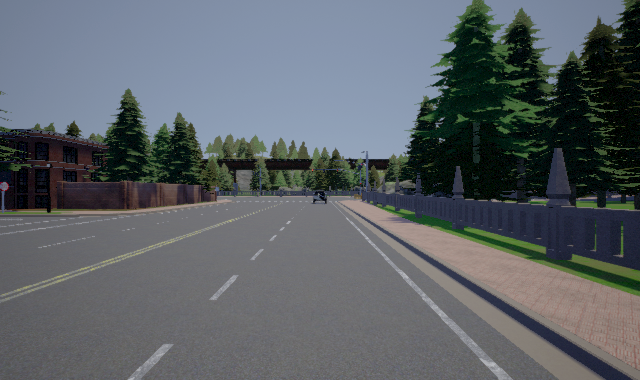traffic_sign: (1, 182, 9, 191)
vehicle: (312, 191, 328, 203)
